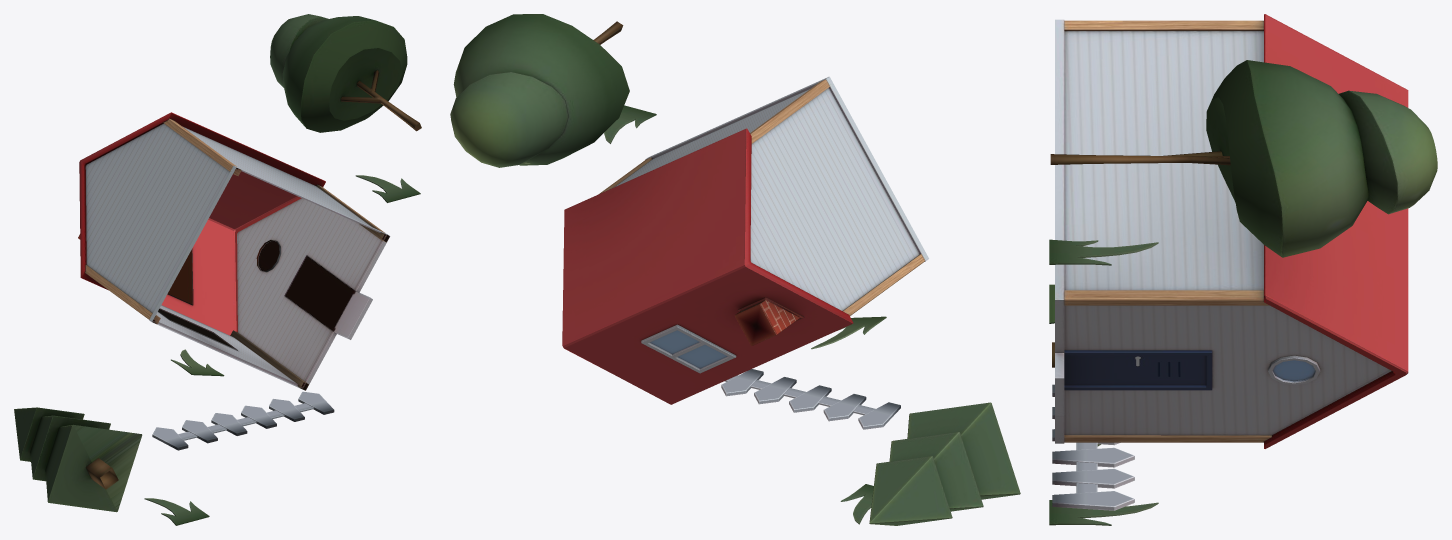
The model's file is house.glb.
3 views of the same model, side by side, from view 1: azimuth 30°, elevation 25°; view 2: azimuth 150°, elevation 25°; view 3: azimuth 270°, elevation 25° (orthographic). The views are drawn at different scales.
Parts seen in each view (by area): view 1: Maison, Arbres_Maison; view 2: Maison, Arbres_Maison; view 3: Maison, Arbres_Maison.
Part boxes in pixels (x1=…): Maison: x1=78, y1=112, x2=390, y2=450; Arbres_Maison: x1=14, y1=14, x2=421, y2=525; Maison: x1=562, y1=76, x2=928, y2=429; Arbres_Maison: x1=450, y1=14, x2=1020, y2=525; Maison: x1=1052, y1=14, x2=1408, y2=510; Arbres_Maison: x1=1049, y1=60, x2=1437, y2=525.
Size of the model in its own units: 1.21 by 1.09 by 0.6271.
Materials: 2 (2 with a texture image).
